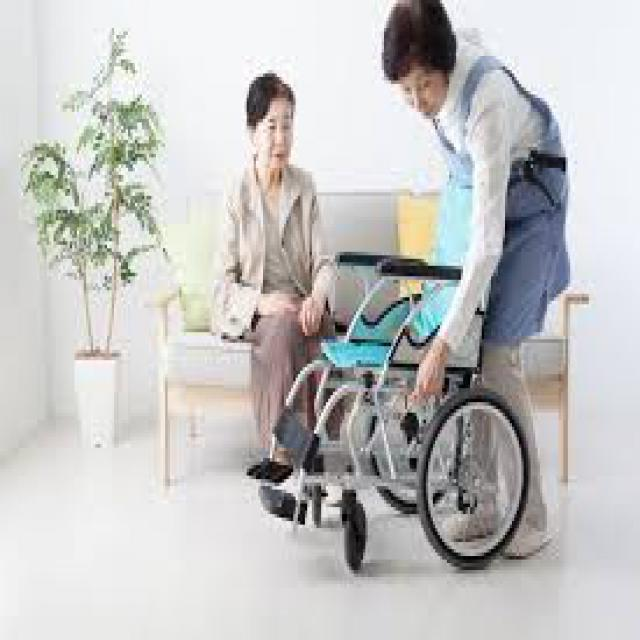wheelchairs: (245, 157, 514, 563)
